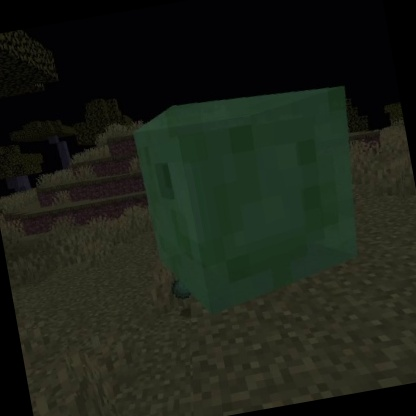slime: (125, 69, 384, 328)
